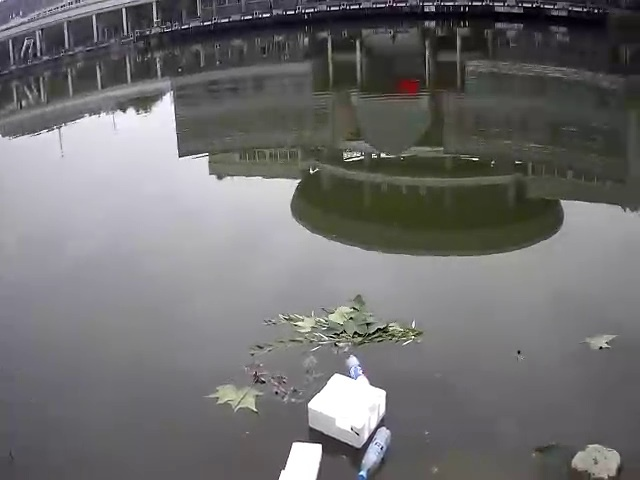bottle: (356, 427, 392, 478), (341, 354, 379, 388)
leaf: (261, 301, 422, 356), (208, 381, 262, 419), (577, 333, 620, 356)
paomo: (305, 369, 387, 444), (273, 439, 325, 480)
